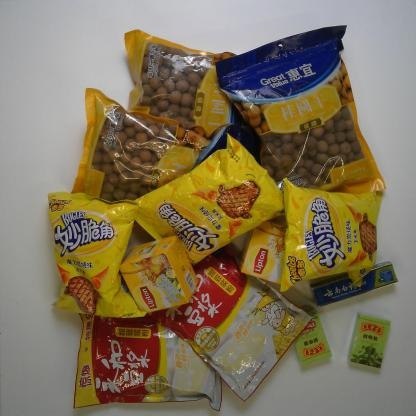Candy: (346, 312, 393, 369), (294, 306, 333, 367)
Dried Food: (214, 22, 386, 196), (69, 83, 262, 200), (123, 27, 249, 131)
Instant Drink: (147, 242, 313, 402), (71, 313, 223, 412), (118, 234, 198, 313), (238, 220, 287, 285)
Personal Hygiene: (310, 262, 399, 308)
Puffed Food: (134, 130, 287, 266), (46, 190, 148, 320), (279, 175, 386, 293)
